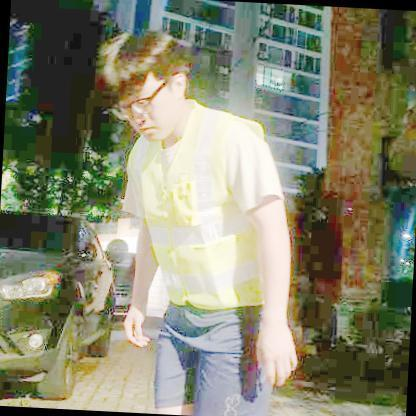no-helmet: (94, 27, 194, 106)
vest: (119, 94, 291, 315)
